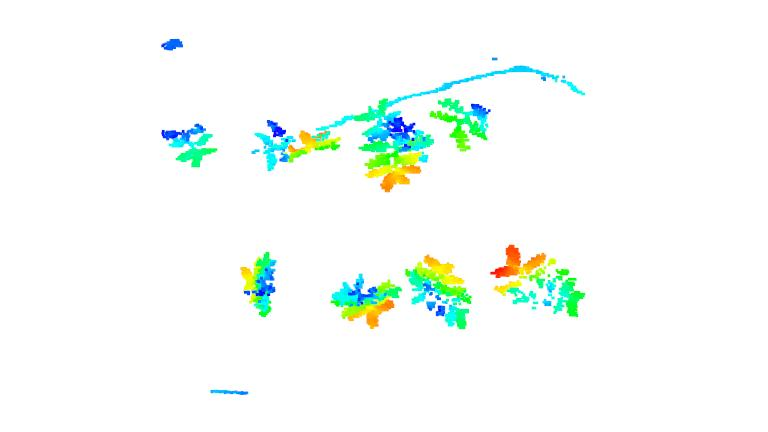chickpea: (356, 96, 434, 192), (493, 245, 583, 318), (407, 253, 473, 328), (255, 121, 345, 174), (329, 271, 403, 331), (432, 96, 491, 150), (162, 119, 214, 172), (241, 251, 279, 317)
